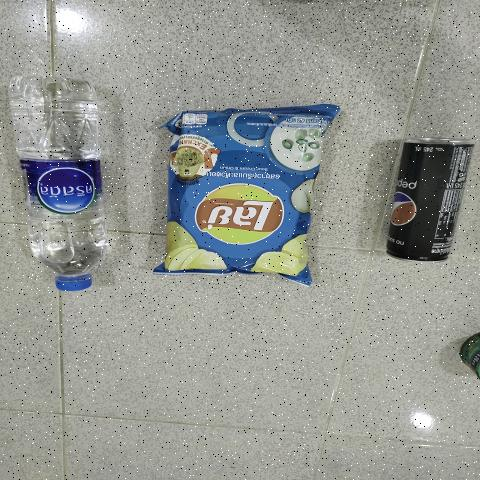crystal: (37, 88, 90, 290)
lay_blue: (175, 113, 327, 268)
pepsi_black: (406, 137, 448, 267)
